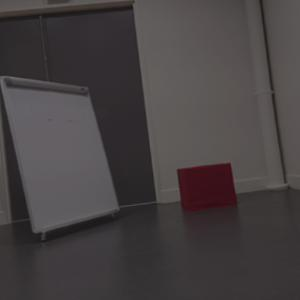big: (1, 75, 120, 238)
medium: (177, 161, 238, 211)
